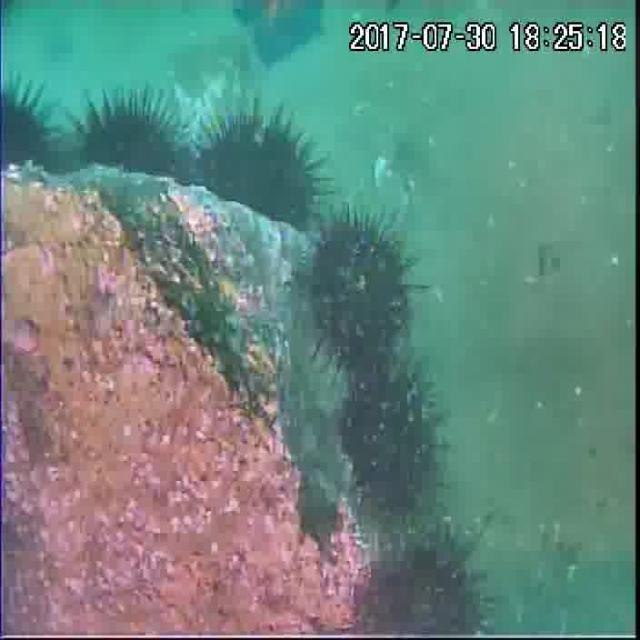echinus: (303, 215, 418, 362), (332, 368, 444, 511), (192, 111, 324, 231), (354, 532, 492, 640), (62, 94, 182, 184), (0, 79, 73, 182)
starfish: (231, 0, 333, 76)
